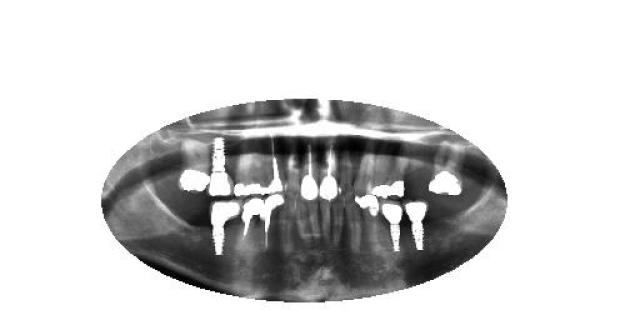Fillings: (429, 142, 465, 196), (178, 138, 212, 194), (355, 195, 383, 253), (370, 151, 391, 199), (389, 154, 410, 198), (234, 148, 252, 198), (251, 150, 269, 198)
Implant: (208, 199, 244, 255), (264, 191, 288, 251), (240, 196, 265, 252), (209, 136, 231, 198), (265, 135, 287, 197), (378, 200, 404, 252), (405, 200, 427, 250), (300, 142, 318, 198), (320, 144, 335, 200)
